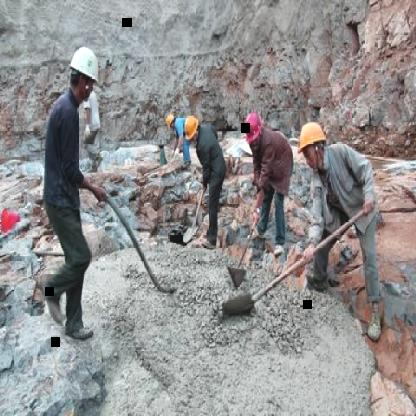helmet: (68, 42, 103, 92), (294, 117, 328, 153), (244, 108, 264, 147), (180, 112, 203, 140), (164, 110, 177, 130)
